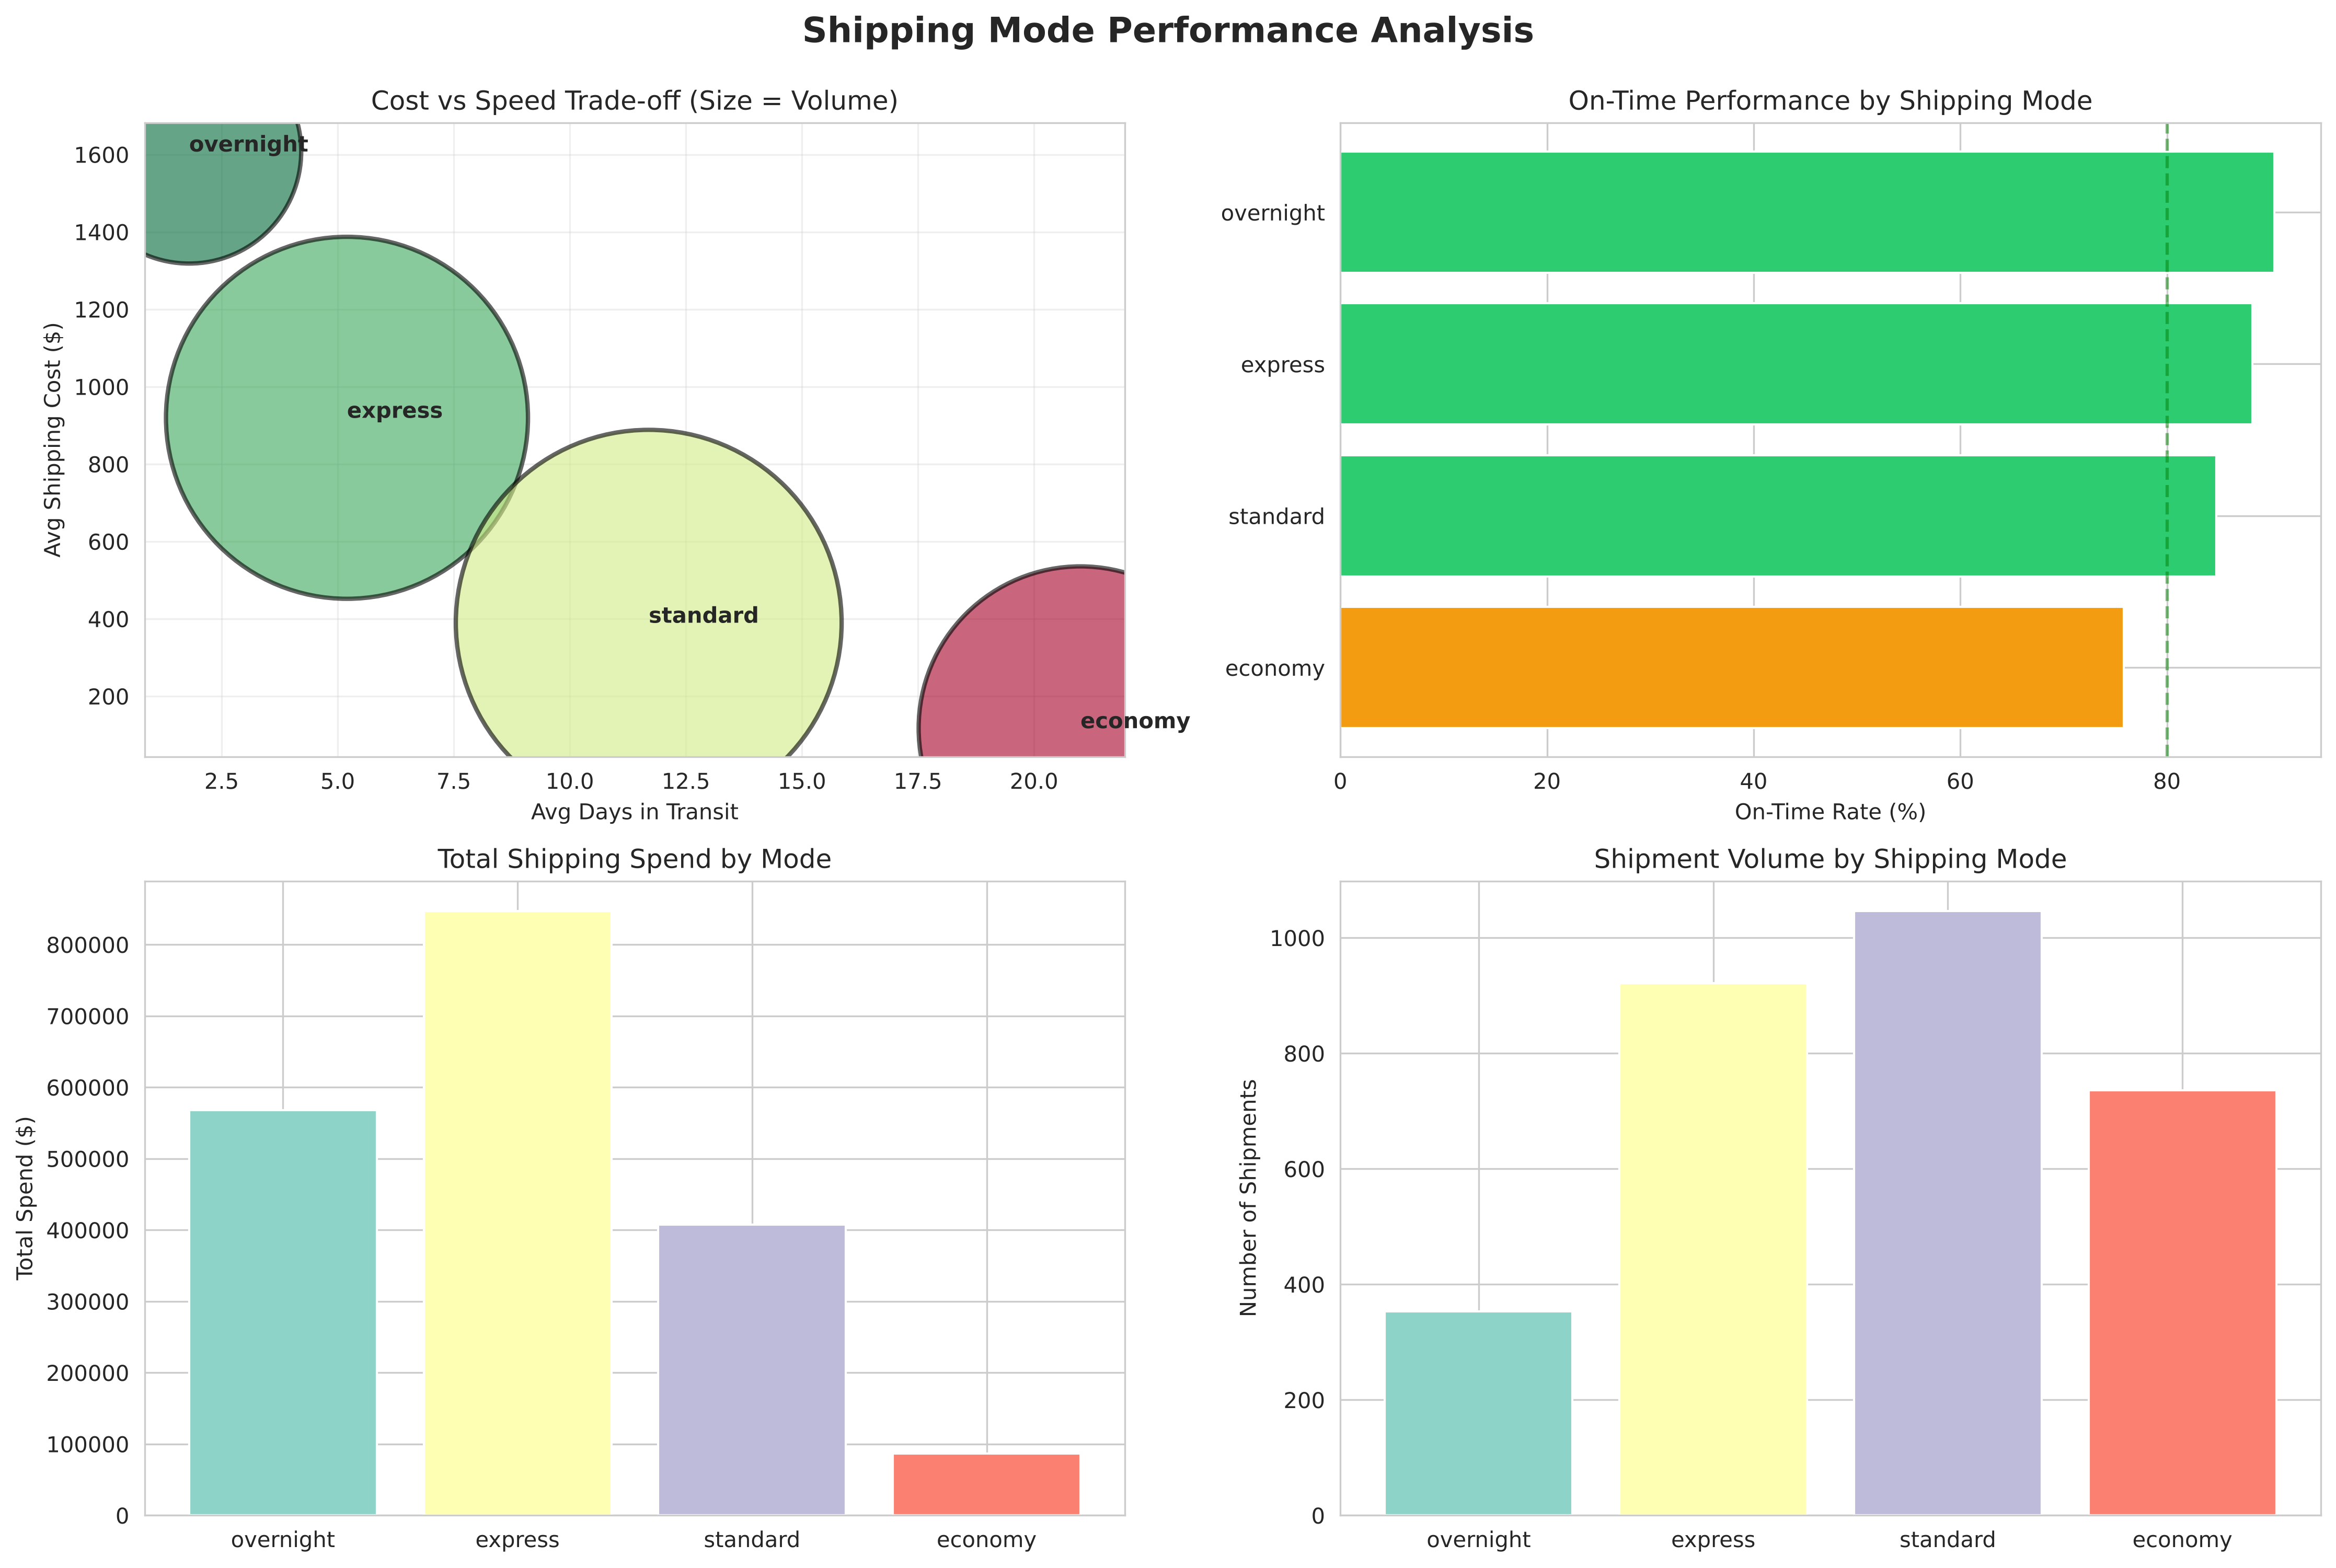

What the dashboard file says about the page in this screenshot:
{"tool":"tableau","page":{"name":"Shipping & Logistics","canvas":[1000,1000],"units":"permille","ordinal":2},"visuals":[{"type":"worksheet","title":"KPI Freight Pct","mark":"Automatic","box":[6.6,11.5,328.9,182.7]},{"type":"worksheet","title":"KPI Transit Days","mark":"Automatic","box":[335.5,11.5,328.9,182.7]},{"type":"worksheet","title":"KPI Freight Total","mark":"Automatic","box":[664.5,11.5,328.9,182.7]},{"type":"worksheet","title":"Shipping Cost vs Speed","mark":"Circle","rows":["Calculation_6471364726751237"],"cols":["Calculation_6471364752478227"],"box":[6.6,194.2,427.8,794.2]},{"type":"worksheet","title":"Mode Reliability","mark":"Automatic","rows":["shipping_mode"],"cols":["Calculation_6471364726489089"],"box":[434.3,194.2,427.8,794.2]},{"type":"legend","title":"Shipping Cost vs Speed","param":"[federated.13v9oqx1s5o2e31fr196h1aqt3c9].[usr:Calculation_6471364752568340:qk]","box":[862.1,194.2,131.4,181.3]},{"type":"legend","title":"Mode Reliability","param":"[federated.13v9oqx1s5o2e31fr196h1aqt3c9].[usr:Calculation_6471364726603778:qk]","box":[862.1,375.5,131.4,93.5]},{"type":"filter","title":"KPI Freight Pct","param":"[federated.13v9oqx1s5o2e31fr196h1aqt3c9].[none:category:nk]","box":[862.1,469.1,131.4,319.4]}]}

Visuals, with their boxes on the dashboard's canvas, which has no fixed pixel size, in thousandths of its width and height (x1, y1, x2, y2). These are canvas units, not pixel positions in the 2336x1568 screenshot, which may show the page scaled, cropped or inside an application window:
"KPI Freight Pct" worksheet: 7,12,336,194
"KPI Transit Days" worksheet: 336,12,664,194
"KPI Freight Total" worksheet: 664,12,993,194
"Shipping Cost vs Speed" worksheet (Circle marks): 7,194,434,988
"Mode Reliability" worksheet: 434,194,862,988
"Shipping Cost vs Speed" legend: 862,194,994,376
"Mode Reliability" legend: 862,376,994,469
"KPI Freight Pct" filter: 862,469,994,788
